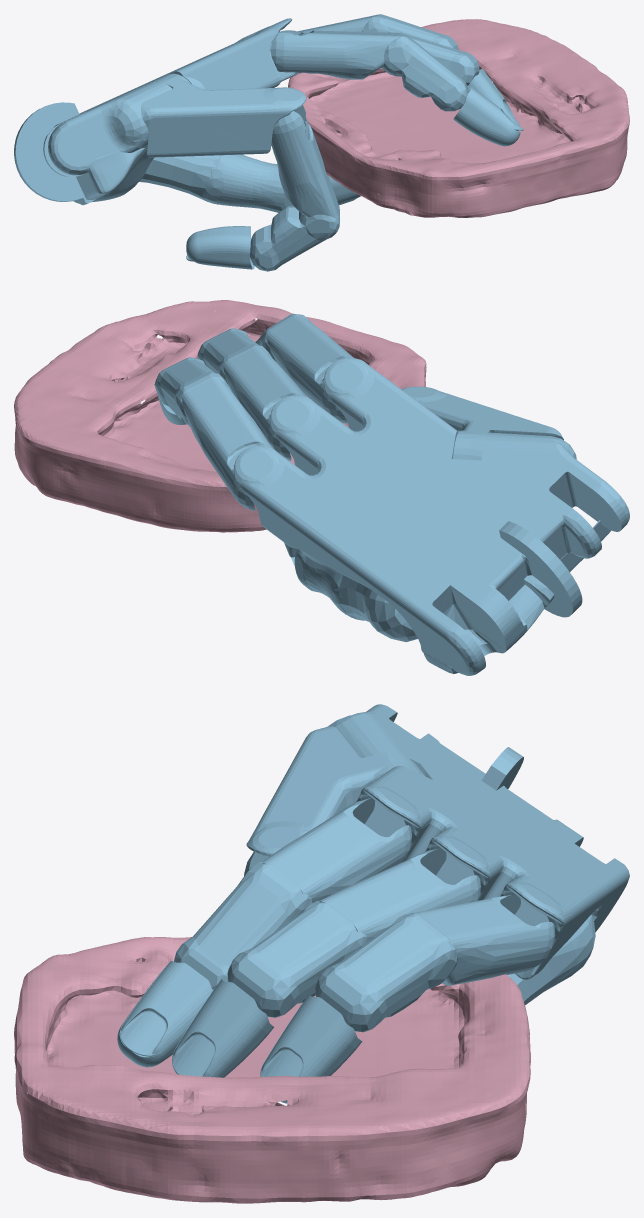
3 renders of one model, top to bottom at view 1: azimuth 30°, elevation 25°; view 2: azimuth 150°, elevation 25°; view 3: azimuth 270°, elevation 25°, orthographic. The views are drawn at different scales.
Visible parts, largest first — view 1: hand, world; view 2: hand, world; view 3: hand, world.
Part boxes in pixels (bbox=[...]): hand: bbox=[14, 14, 523, 271]; world: bbox=[288, 19, 629, 217]; hand: bbox=[154, 313, 629, 675]; world: bbox=[14, 300, 426, 532]; hand: bbox=[117, 704, 629, 1103]; world: bbox=[14, 937, 530, 1203].
Size of the model in its own units: 0.2329 by 0.0949 by 0.1567.
